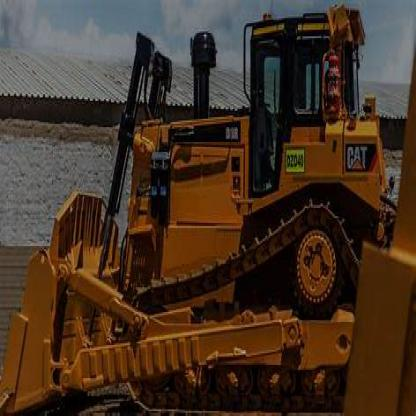bull_dozer/loader/grader: (17, 7, 415, 414)
